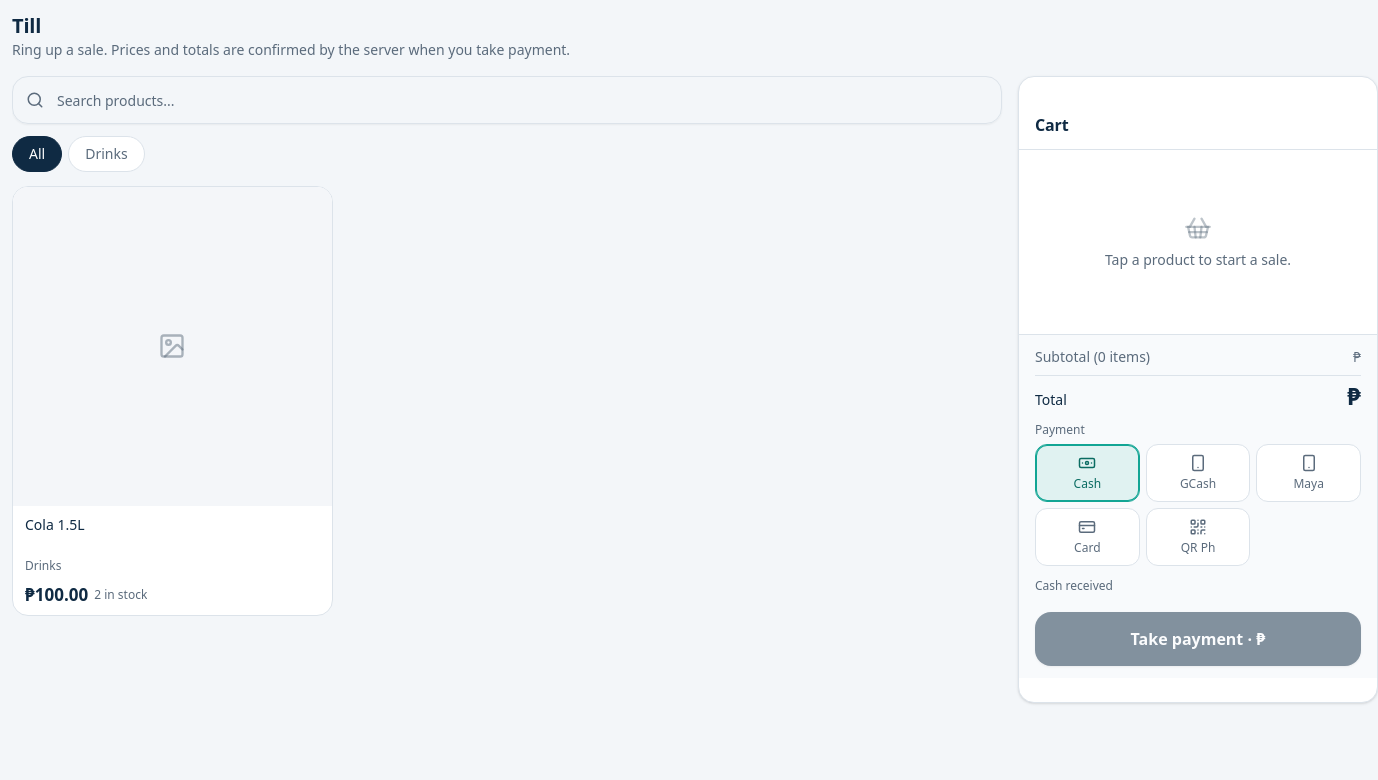
the cart › will not add more than the branch holds
This screenshot has width=1378, height=780.
Click the button with aria-label "Add Cola 1.5L": (172, 401) x1=12 y1=186 x2=333 y2=616
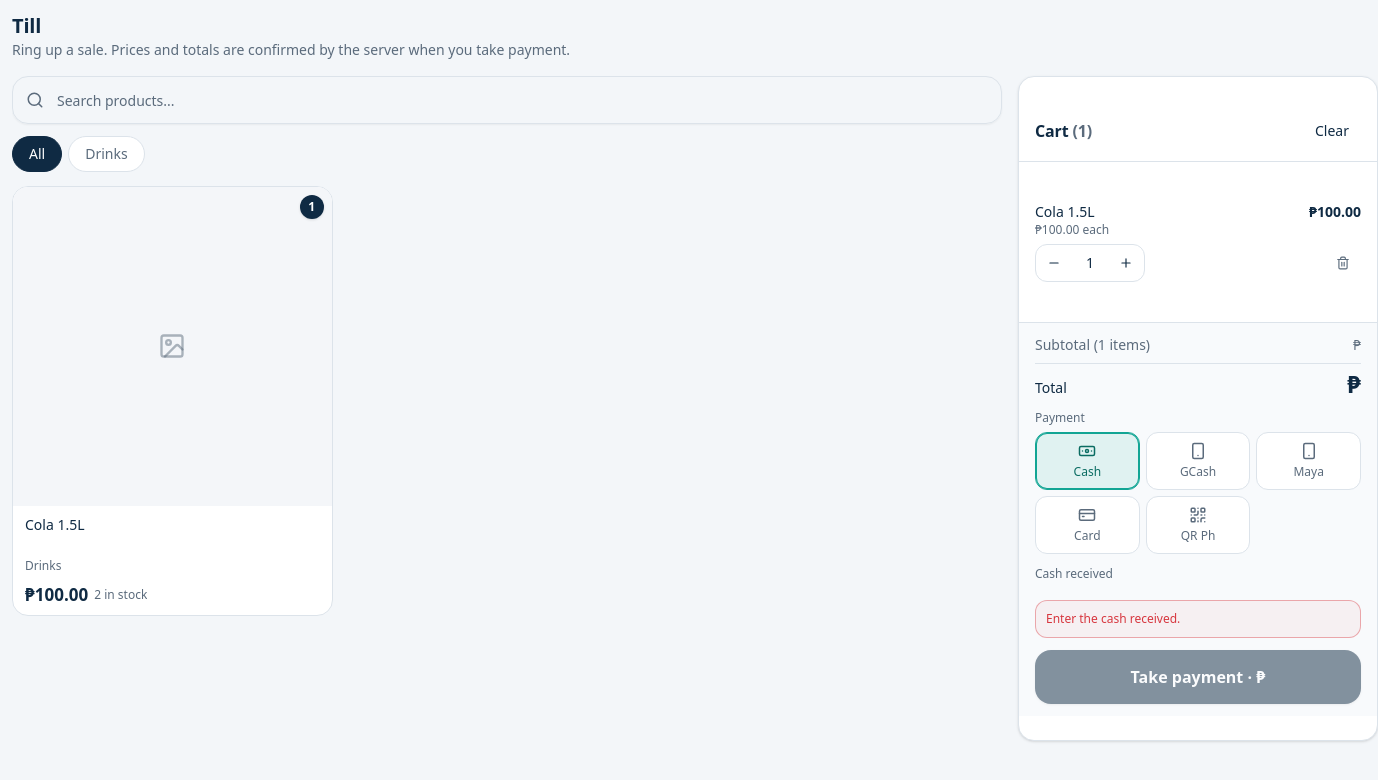
Click the button with aria-label "Add Cola 1.5L": (172, 401) x1=12 y1=186 x2=333 y2=616
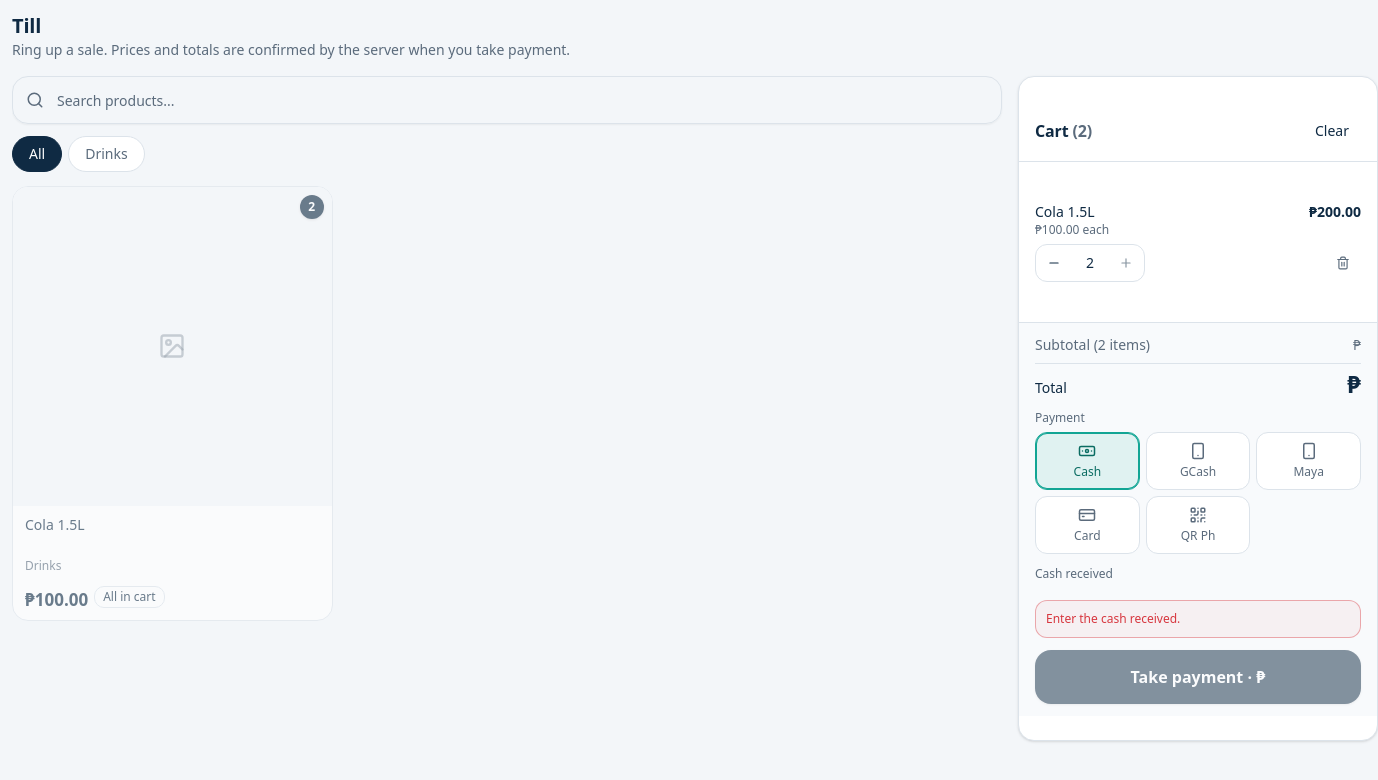
Expected: the button with aria-label "Add Cola 1.5L" is disabled, x1=12 y1=186 x2=333 y2=621
Expected: the button named "One more Cola 1.5L" is disabled, x1=1108 y1=245 x2=1144 y2=281
